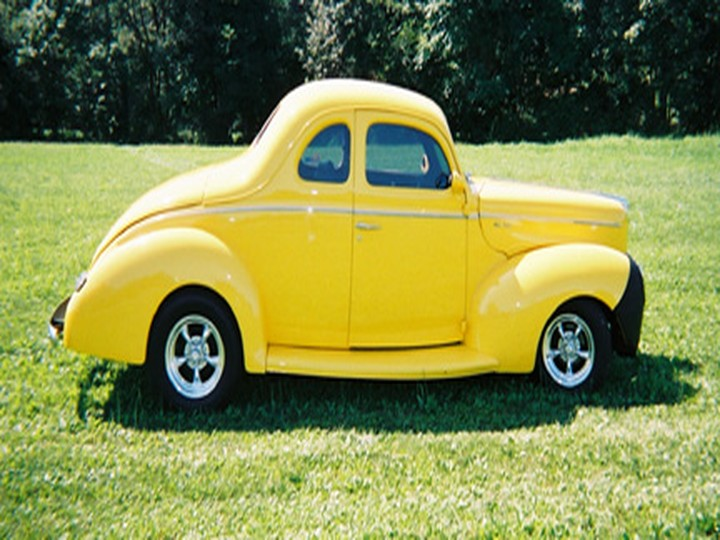car: (48, 73, 658, 413)
